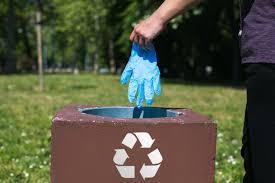Glove: (121, 43, 160, 107)
